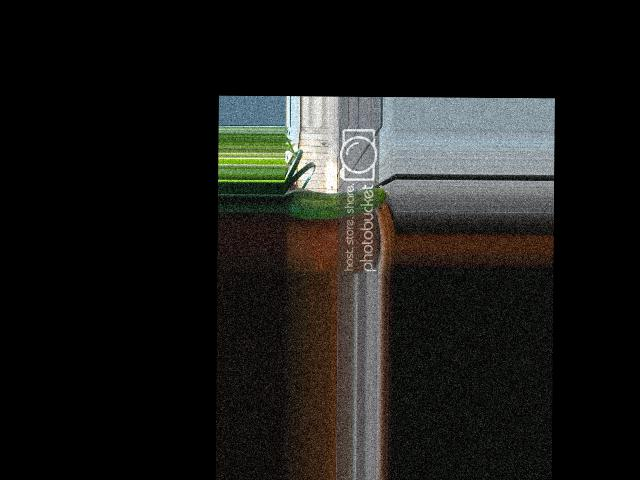cucumber: (284, 186, 391, 219)
